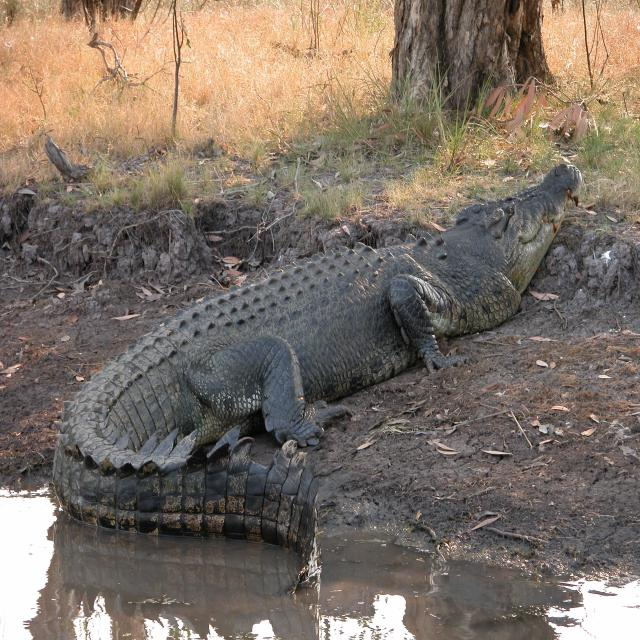crocodile: (49, 153, 585, 595)
